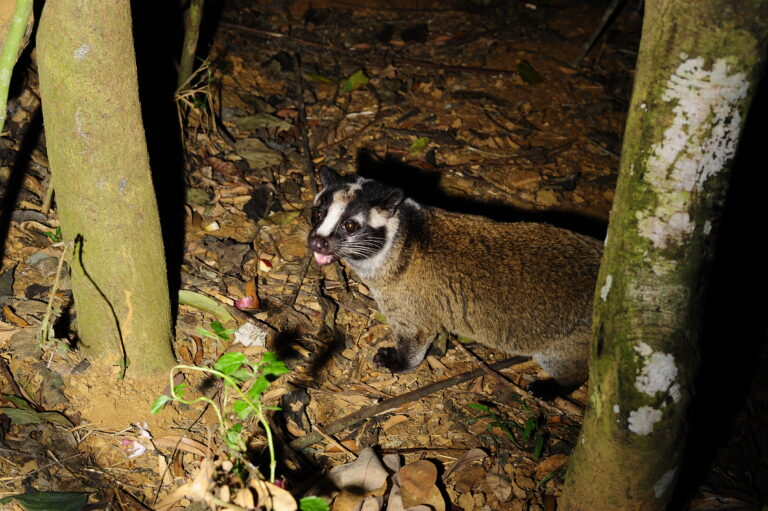Civet: (292, 176, 618, 392)
